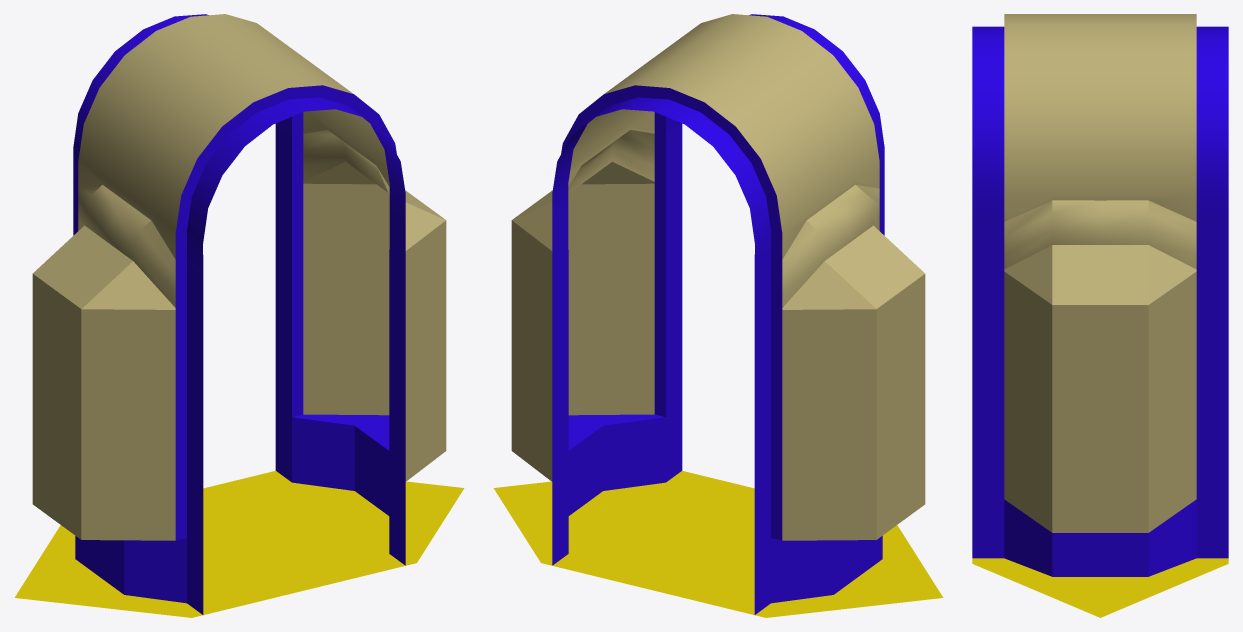
The model's file is StraightV4.fbx.
The picture shows the model from 3 angles, left to right: view 1: azimuth 30°, elevation 25°; view 2: azimuth 150°, elevation 25°; view 3: azimuth 270°, elevation 25°; orthographic projection.
Parts seen in each view (by area): view 1: StraightV4; view 2: StraightV4; view 3: StraightV4.
Boxes of the visible parts, x1=… form: StraightV4: x1=14, y1=14, x2=464, y2=617; StraightV4: x1=493, y1=14, x2=943, y2=617; StraightV4: x1=972, y1=14, x2=1228, y2=617.
Bounding box in the file's own units: 240 × 250 × 120.
